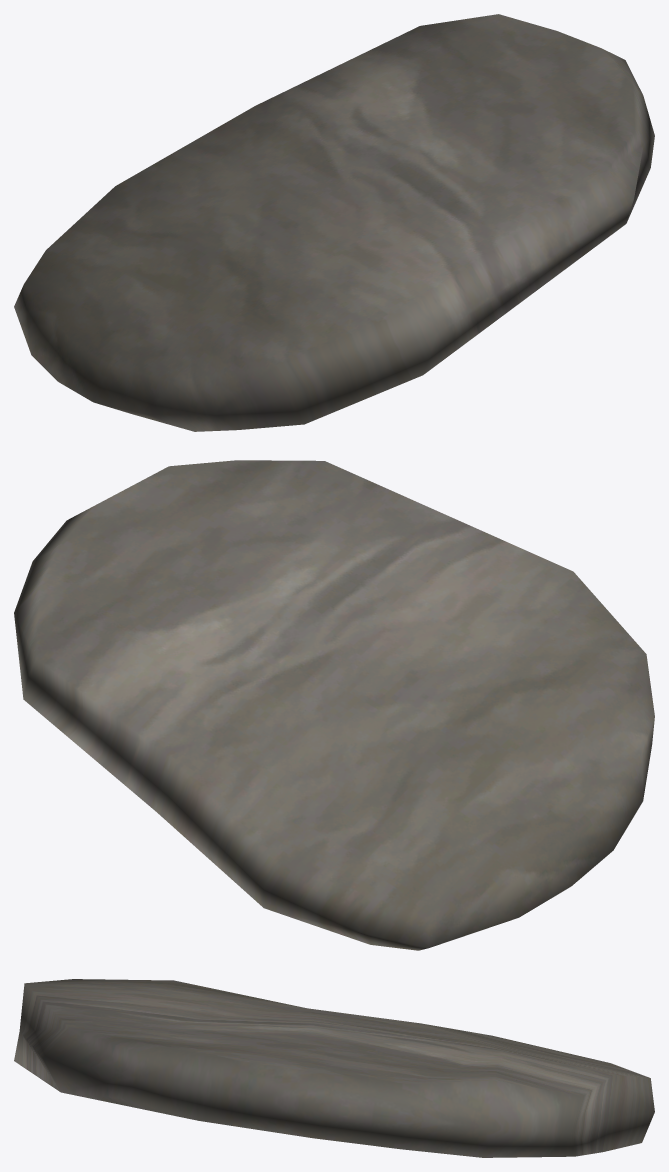
File: FlatStone6Shape.dae
The picture shows the model from 3 angles, top to bottom: view 1: azimuth 30°, elevation 25°; view 2: azimuth 150°, elevation 25°; view 3: azimuth 270°, elevation 25°; orthographic projection. The views are drawn at different scales.
Parts seen in each view (by area): view 1: FlatStone6; view 2: FlatStone6; view 3: FlatStone6.
Part boxes in pixels (<box>): FlatStone6: <box>14,14,654,431</box>; FlatStone6: <box>14,460,654,950</box>; FlatStone6: <box>14,979,654,1157</box>.
Size of the model in its own units: 1.45 by 0.6631 by 1.37.
